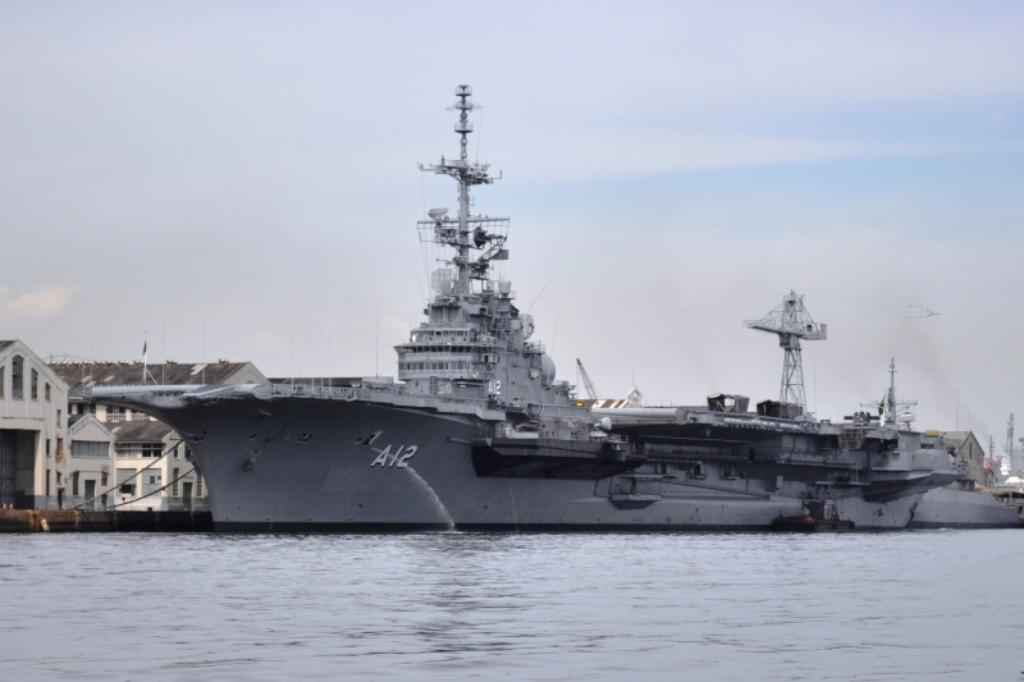Warship: (61, 73, 965, 538)
